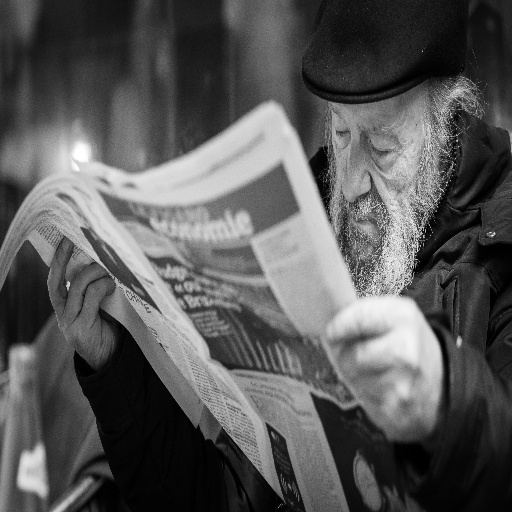hand: (324, 282, 464, 439), (44, 234, 121, 371)
